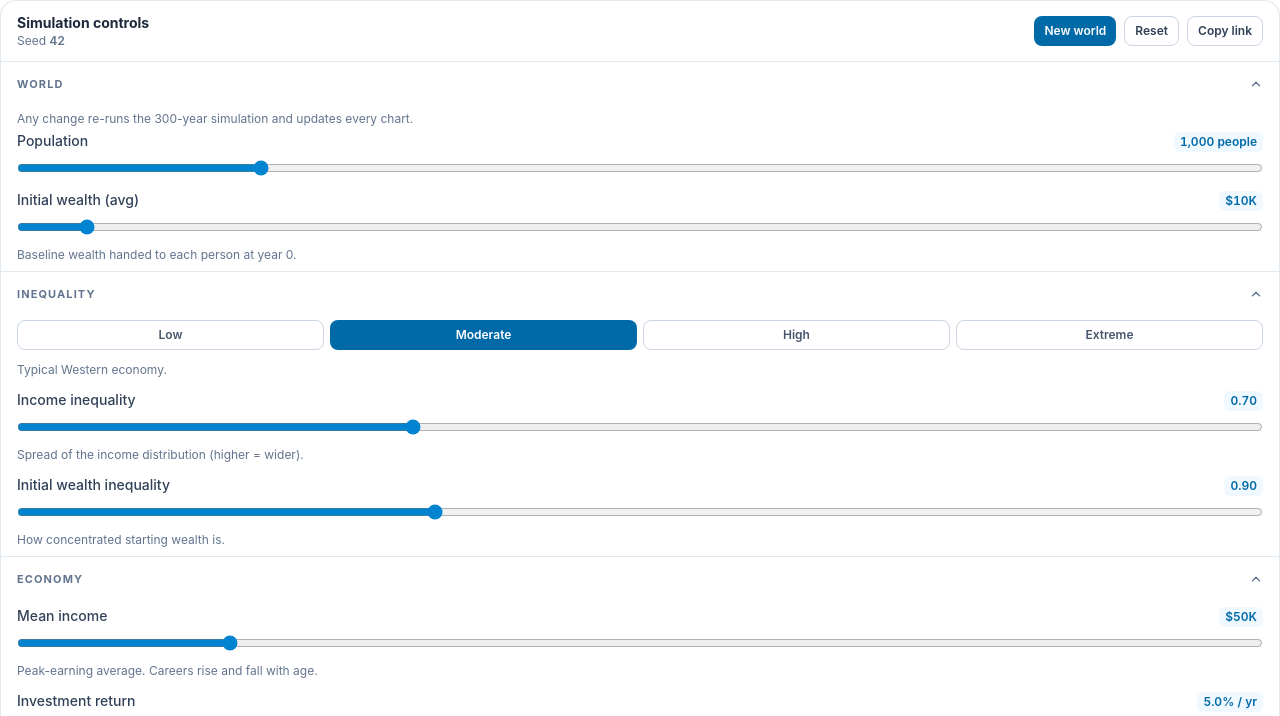
Test: copy link reports a successful copy
The width and height of the screenshot is (1280, 716).
Click the button "Copy link" at (1225, 31), box left=1187, top=16, right=1263, bottom=46
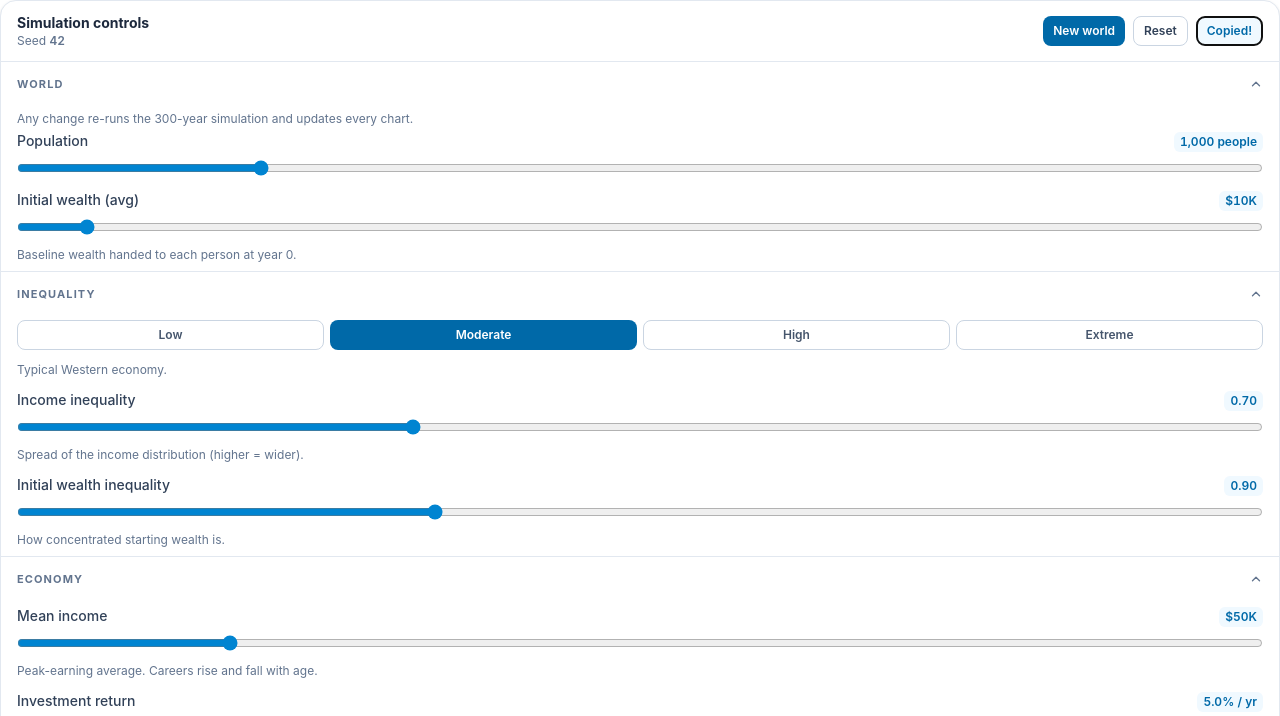
Expected: the button "Copied!" is shown, left=1196, top=16, right=1263, bottom=46
